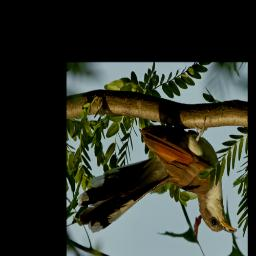Cuckoo: (77, 122, 237, 233)
